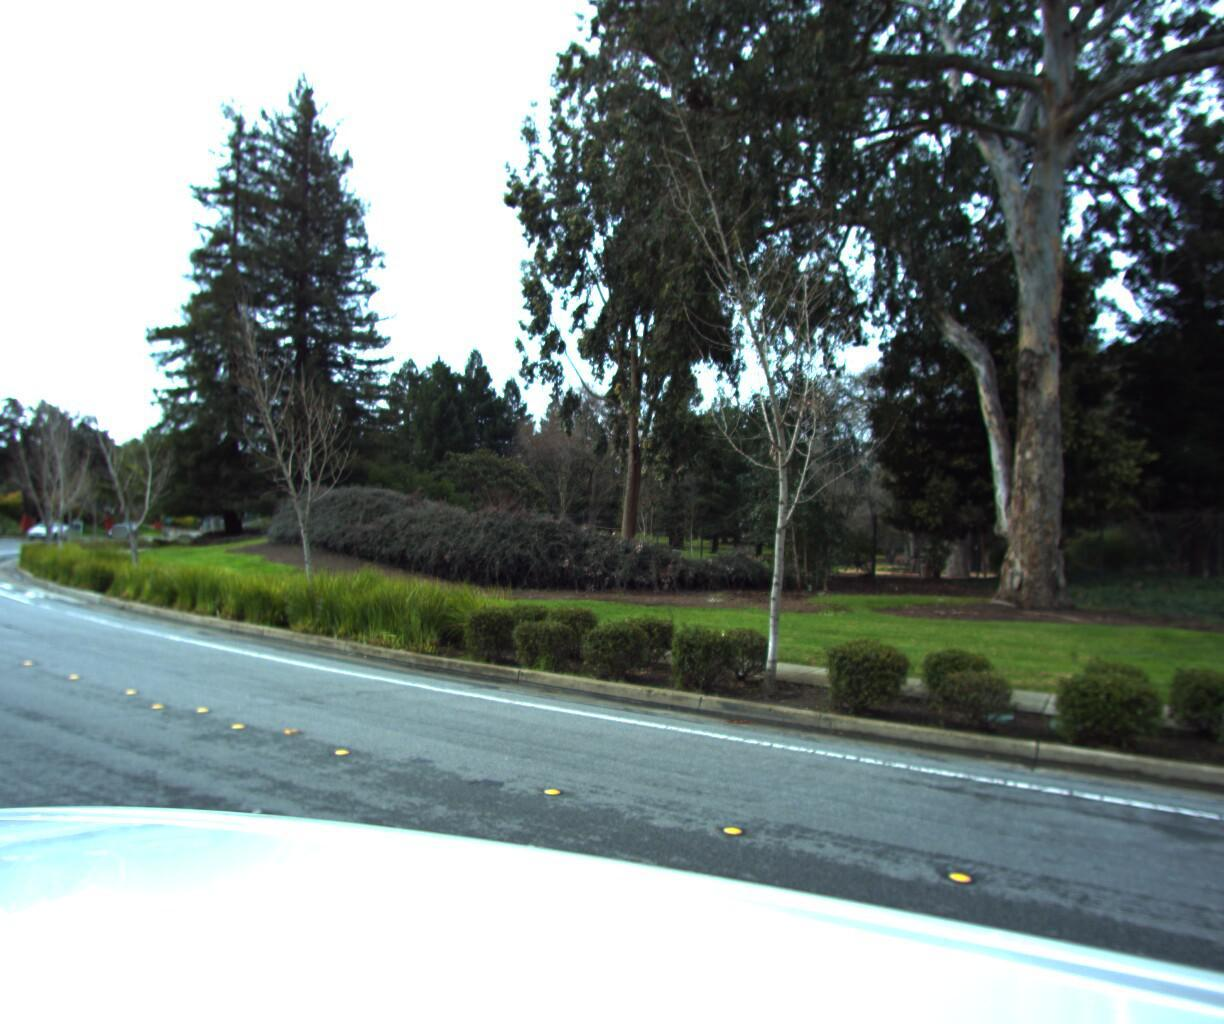car: (22, 517, 70, 541)
